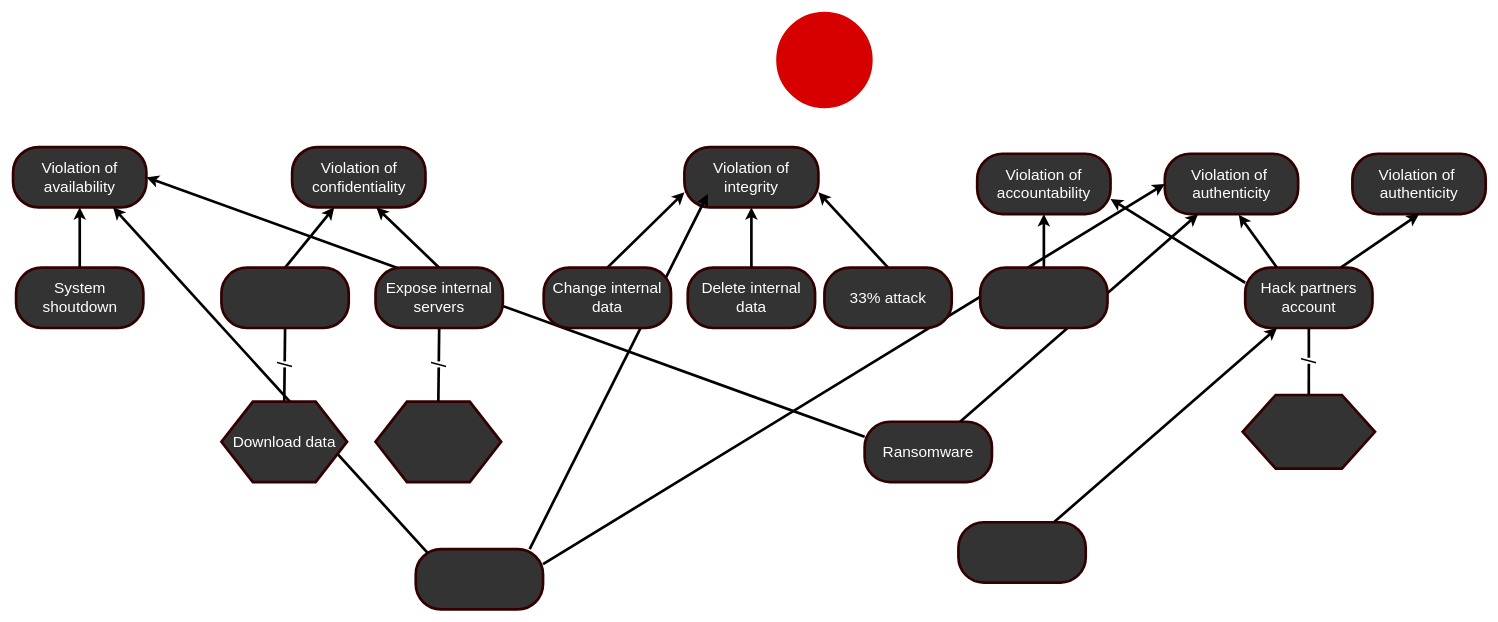
Image size: 1498x622. Some labels were removed from this diagram. The shapes that lost their labels are listed below. From the top down, each one's centre as x and y in pixels, then its label:
At [824,59]: "Insider Attacker".
At [285,297]: "Expose internal data".
At [1044,297]: "Vertical privilege escalation".
At [438,441]: "Install Backdoor".
At [1308,431]: "Install Malware/Keylogger".
At [1022,552]: "Phishing".
At [479,578]: "Malware".
